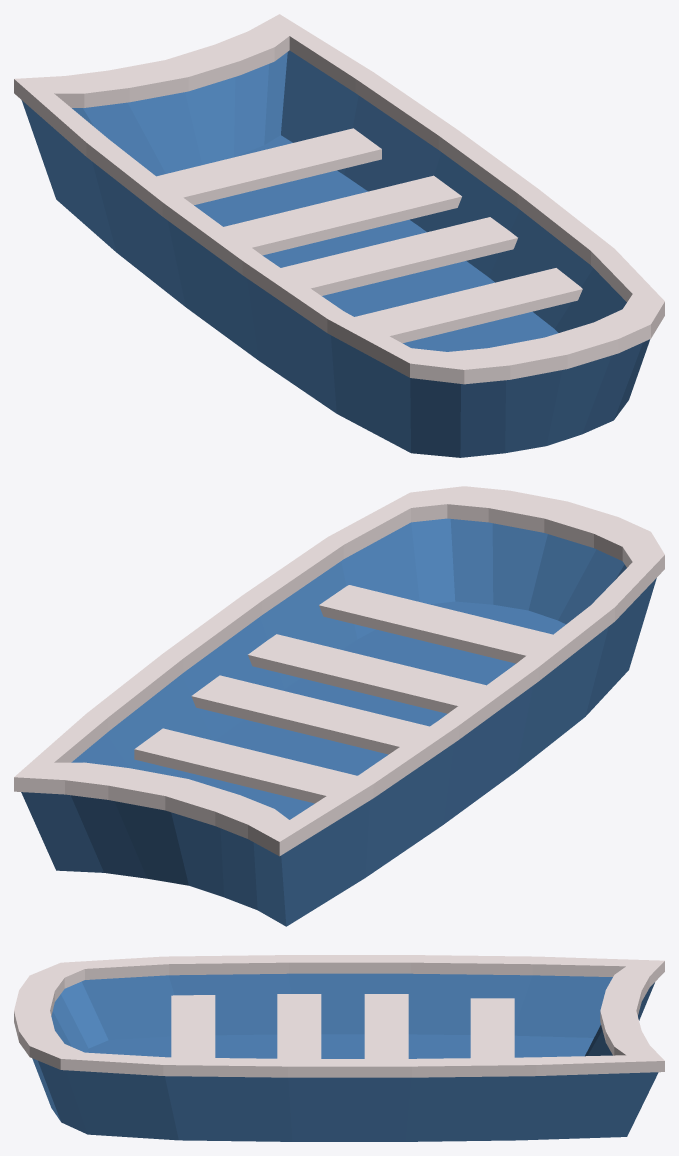
The model's file is Boat.fbx.
The picture shows the model from 3 angles, top to bottom: view 1: azimuth 30°, elevation 25°; view 2: azimuth 150°, elevation 25°; view 3: azimuth 270°, elevation 25°; orthographic projection. The views are drawn at different scales.
Visible parts, largest first — view 1: Boat; view 2: Boat; view 3: Boat.
Boxes of the visible parts, x1,y1,x2,y2 form: Boat: (14,14,664,457); Boat: (14,486,664,926); Boat: (14,955,664,1141).
Bounding box in the file's own units: 70.58 × 24.41 × 174.
Materials: 1 (1 with a texture image).
